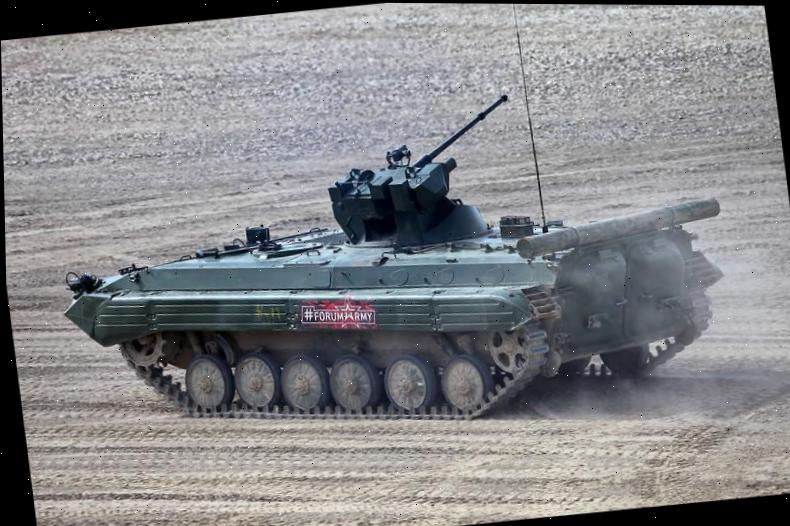tank: (39, 68, 748, 464)
